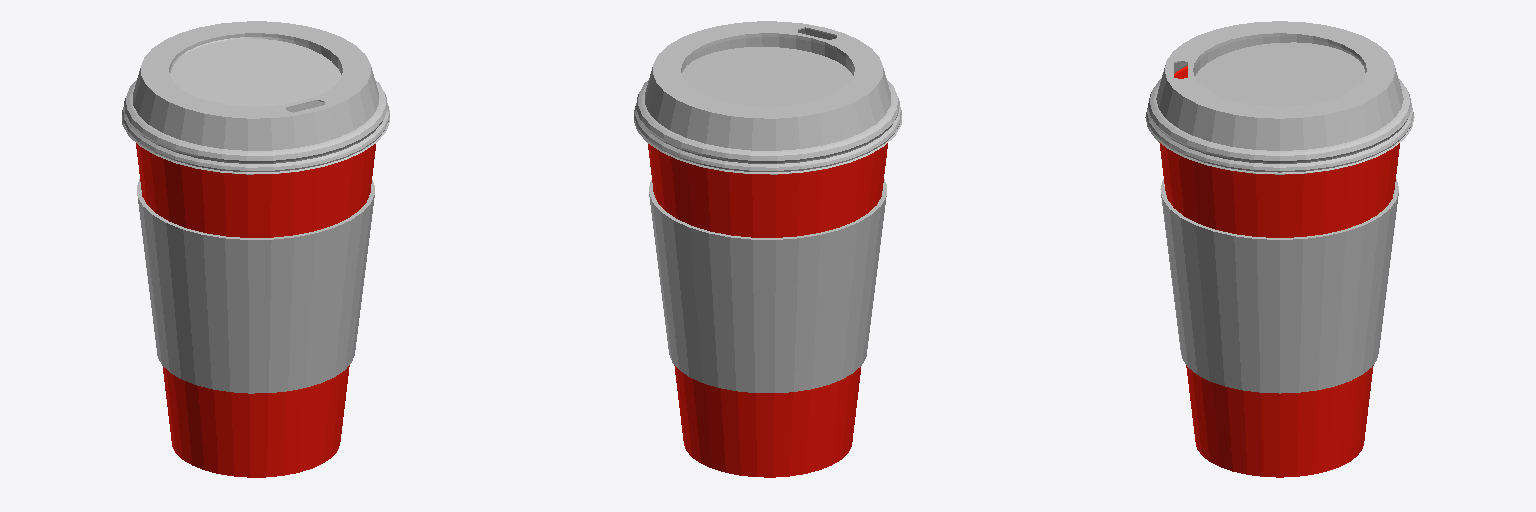
File: coffee_cup.obj
3 renders of one model, left to right at view 1: azimuth 30°, elevation 25°; view 2: azimuth 150°, elevation 25°; view 3: azimuth 270°, elevation 25°, orthographic.
Visible parts, largest first — view 1: Sleeve, Lid, Cup; view 2: Sleeve, Lid, Cup; view 3: Sleeve, Lid, Cup.
Boxes of the visible parts, <box> form: Sleeve: <box>137,179,374,393</box>; Lid: <box>122,21,389,174</box>; Cup: <box>136,143,375,477</box>; Sleeve: <box>649,179,886,392</box>; Lid: <box>634,21,901,174</box>; Cup: <box>648,143,887,477</box>; Sleeve: <box>1160,179,1398,393</box>; Lid: <box>1145,21,1414,174</box>; Cup: <box>1159,66,1399,477</box>.
Size of the model in its own units: 3.19 by 4.86 by 3.19.